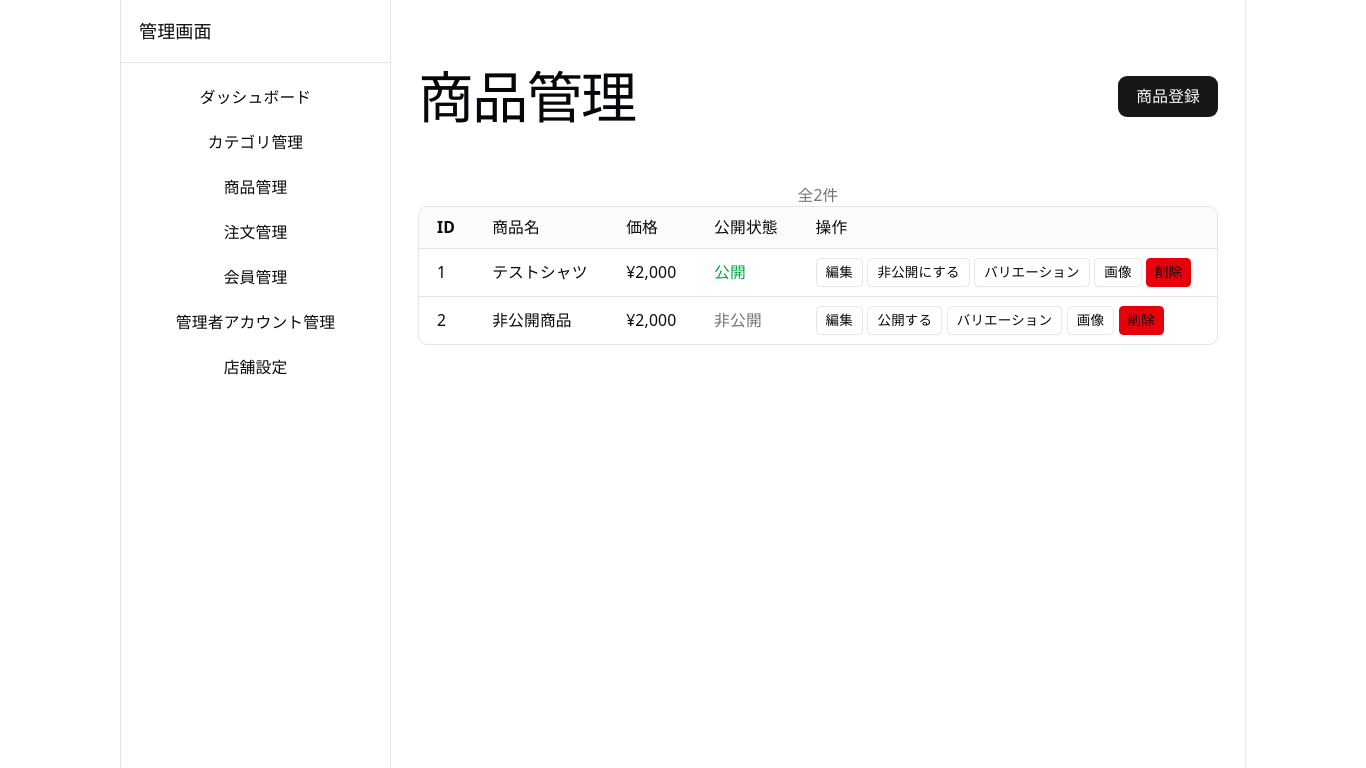
Test: AdminProductsPage › 商品登録失敗時にエラーメッセージが表示されること
This screenshot has width=1366, height=768.
Expected: the text "テストシャツ" is shown, [474,248,608,296]
Click the button "商品登録" at {"x": 1168, "y": 96}, box [1118,76,1218,117]
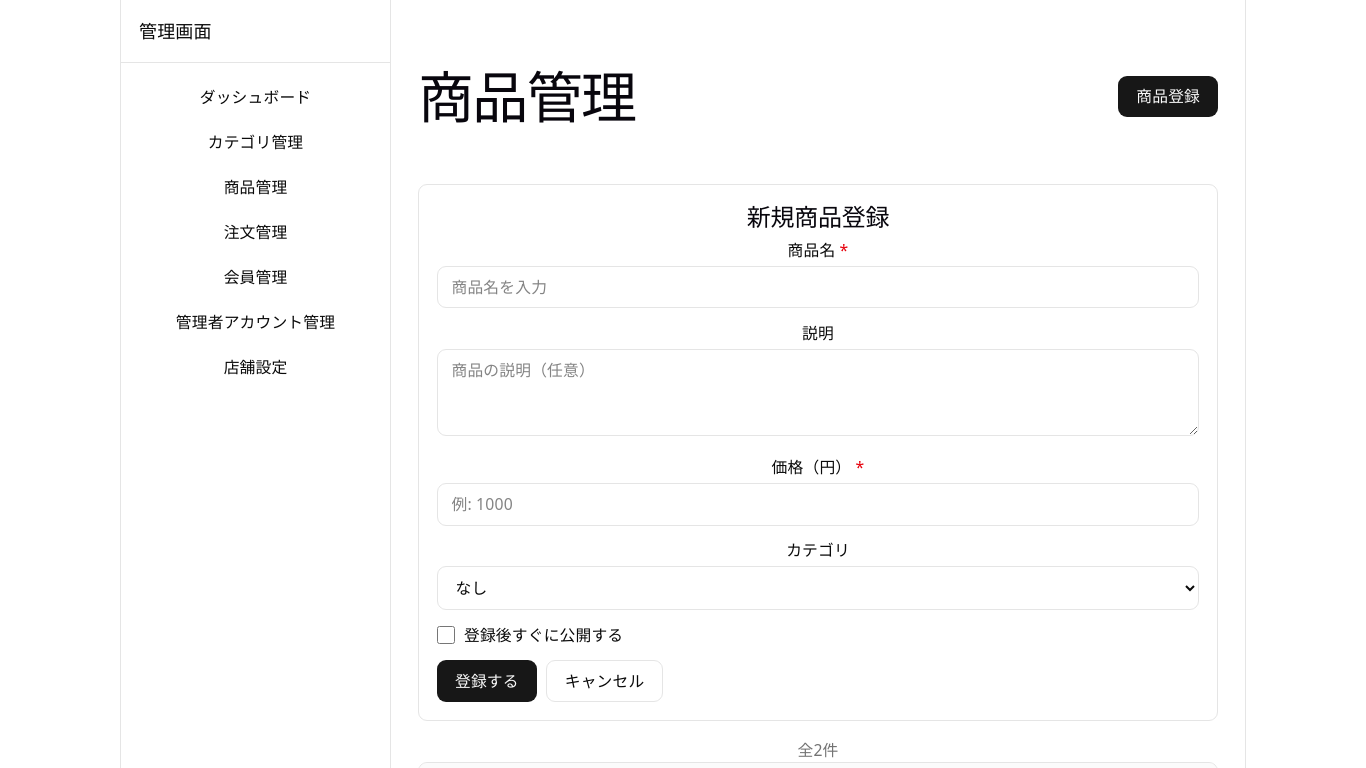
Type "失敗商品" into the field labelled "商品名 *" at {"x": 818, "y": 287}, box [437,266,1199,308]
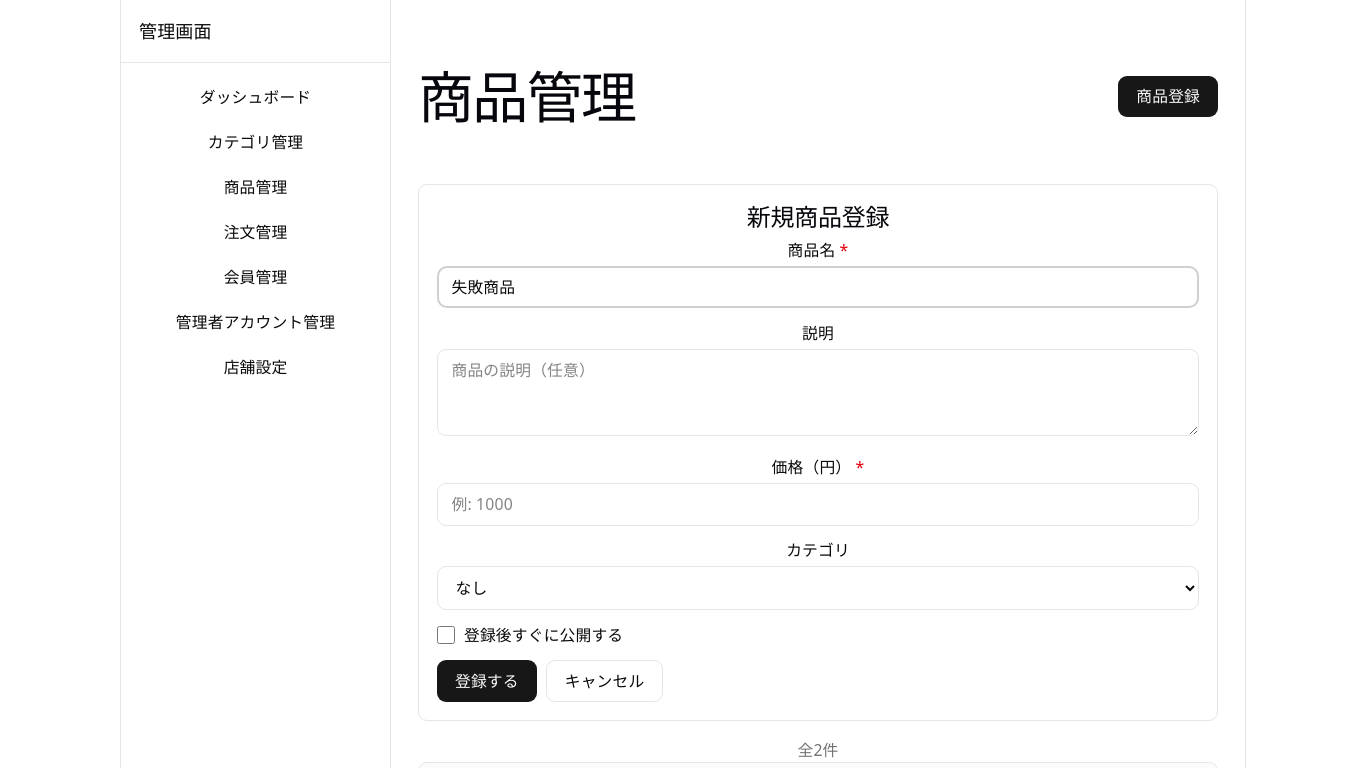
Type "1000" into the number field labelled "価格（円） *" at {"x": 818, "y": 504}, box [437,483,1199,526]
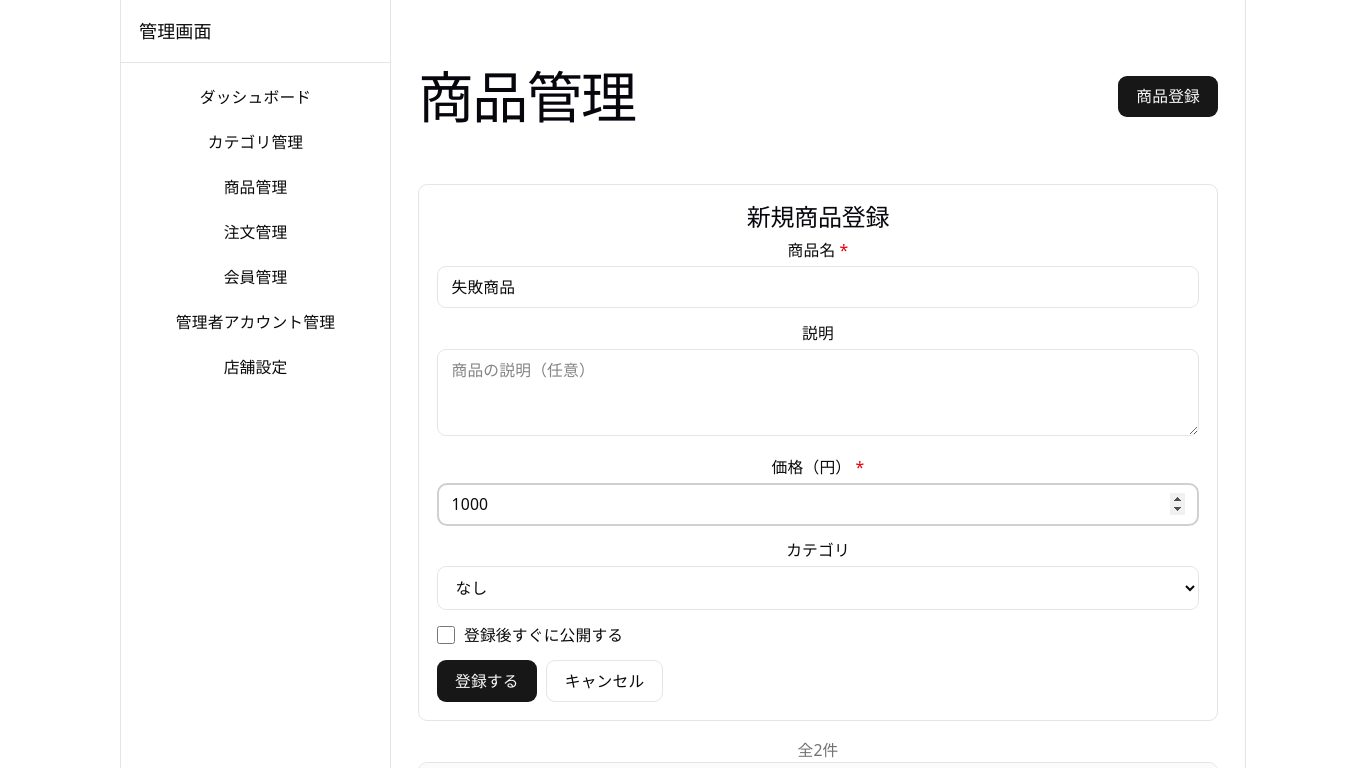
Click the button "登録する" at {"x": 487, "y": 681}, box [437,660,537,702]
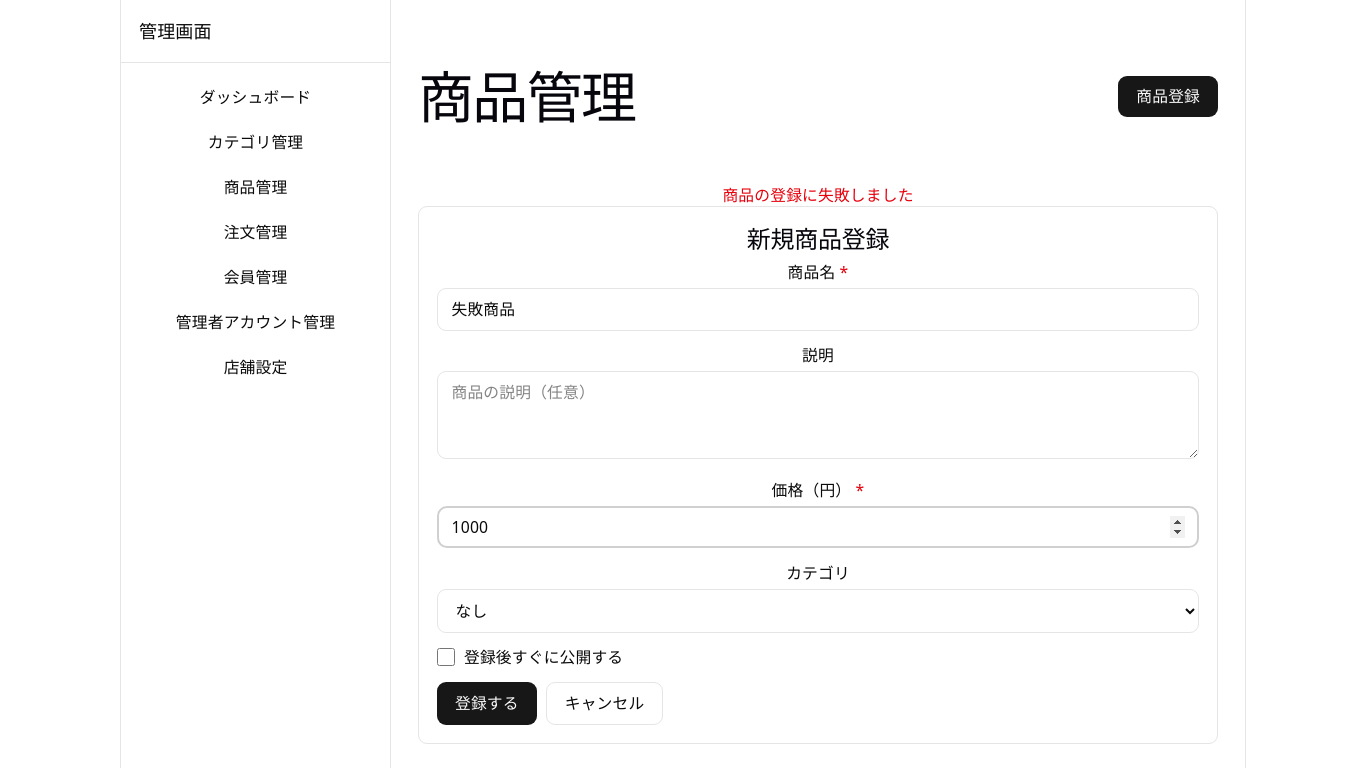
Result: the message reads "商品の登録に失敗しました" at [722,184,914,206]
